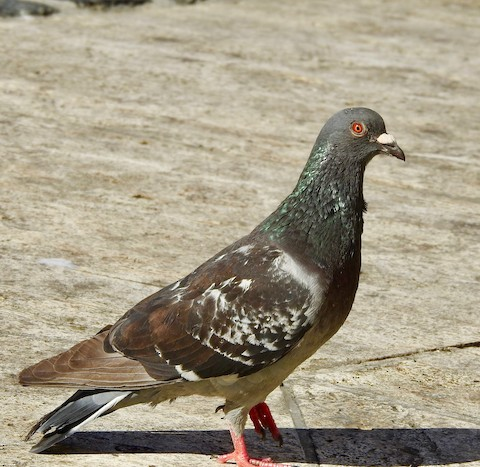pigeon: (13, 99, 408, 455)
